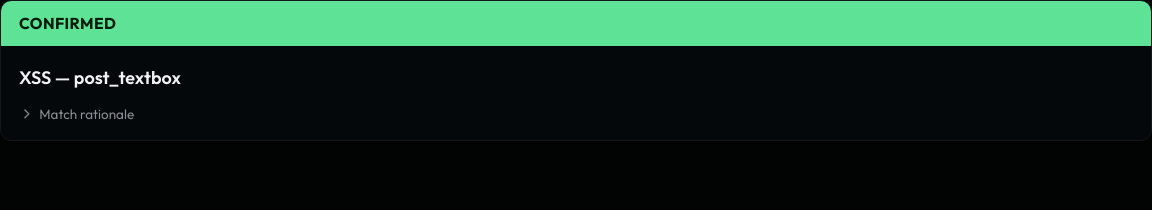
Test: FindingRow › starts collapsed and shows the rationale only after being clicked
Expected: the text "matched by CWE-79" is not shown
Click the button at (77, 114), box [19,104,134,122]
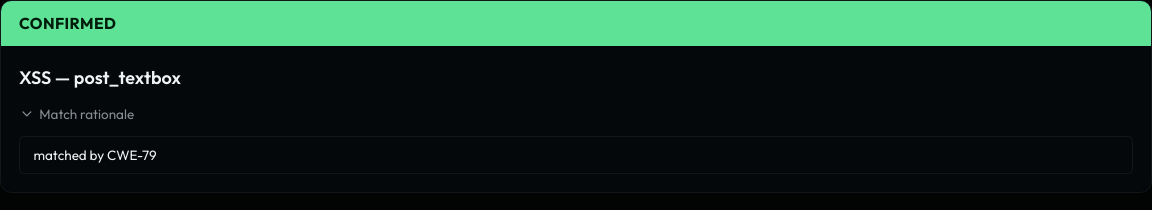
Expected: the text "matched by CWE-79" is shown, [19,136,1133,174]
